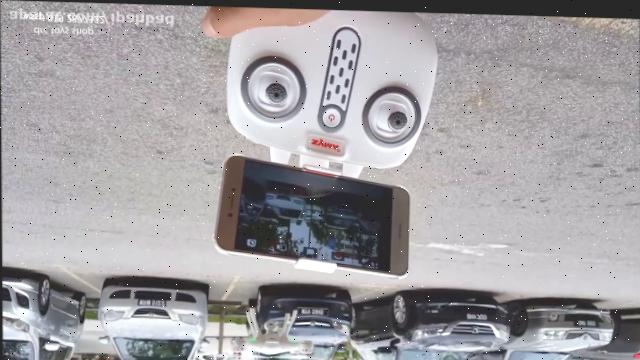drone: (221, 304, 325, 360)
